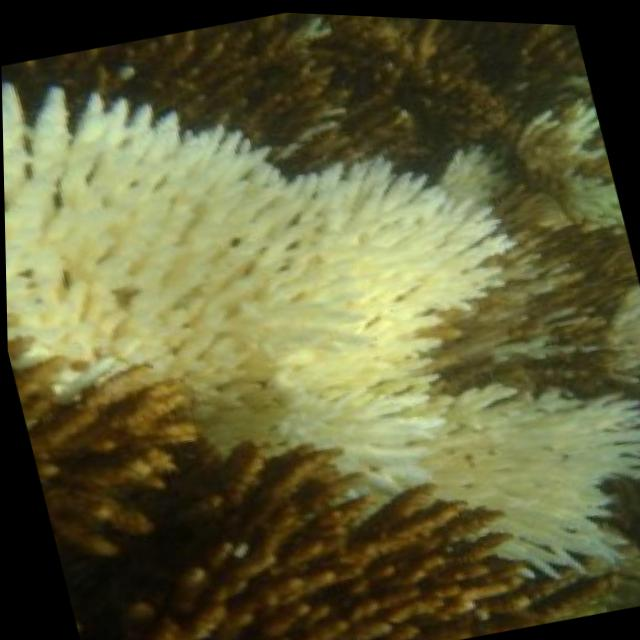Bleached Coral: (2, 122, 541, 468), (0, 25, 305, 319), (386, 324, 640, 608)
